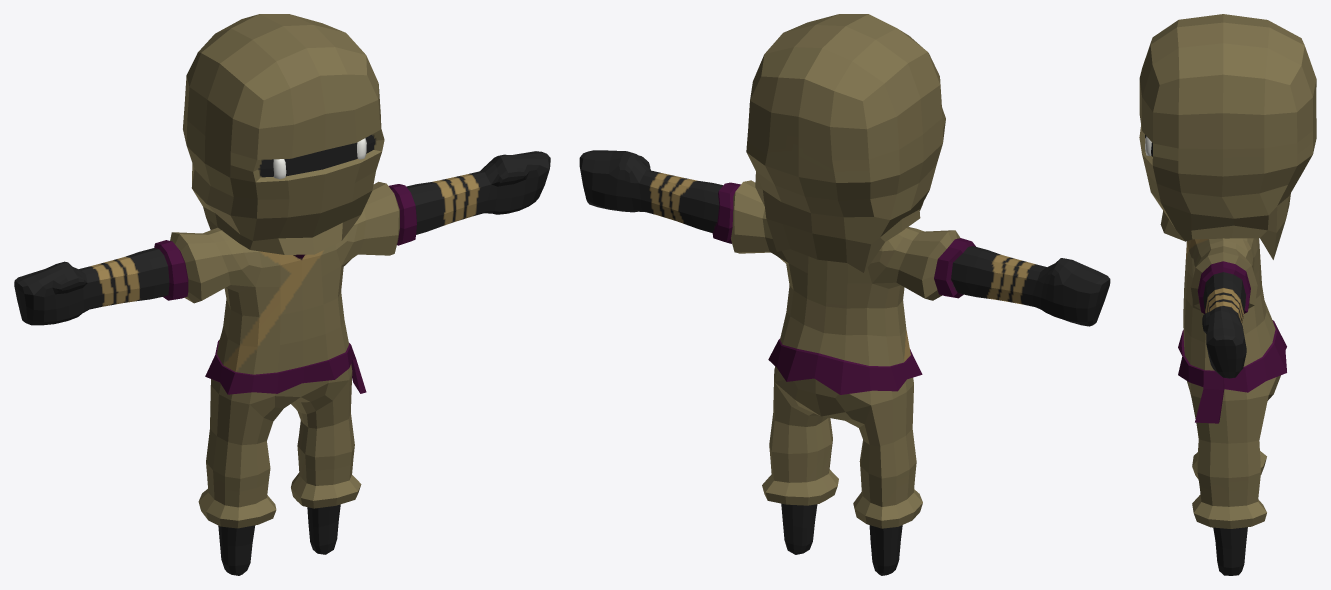
Rendered from Ninja_Sand.fbx.
3 renders of one model, left to right at view 1: azimuth 30°, elevation 25°; view 2: azimuth 150°, elevation 25°; view 3: azimuth 270°, elevation 25°, orthographic.
Visible parts, largest first — view 1: Body; view 2: Body; view 3: Body.
Boxes of the visible parts, x1,y1,x2,y2 form: Body: (14, 14, 550, 575); Body: (579, 14, 1110, 575); Body: (1139, 14, 1316, 575).
Bounding box in the file's own units: 324 × 316 × 95.33.
1 material, 1 textured.
